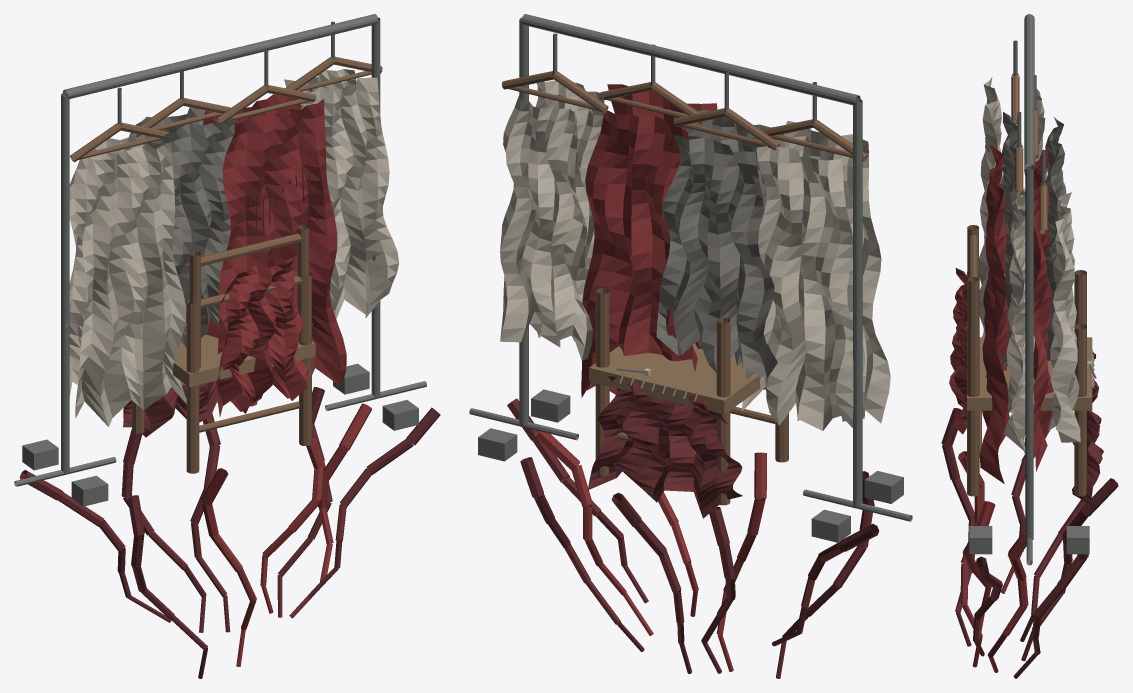
File: conservatory-adversary-scenery.glb
3 views of the same model, side by side, from view 1: azimuth 30°, elevation 25°; view 2: azimuth 150°, elevation 25°; view 3: azimuth 270°, elevation 25° (orthographic). The views are drawn at different scales.
Visible parts, largest first — view 1: costume_rail, costume_stained_chair, held_note_ceiling_wound; view 2: costume_rail, costume_stained_chair, held_note_ceiling_wound; view 3: costume_rail, costume_stained_chair, held_note_ceiling_wound.
Part boxes in pixels (left/top/right/bottom): costume_rail: left=14, top=14, right=426, bottom=506; costume_stained_chair: left=123, top=224, right=315, bottom=473; held_note_ceiling_wound: left=19, top=387, right=440, bottom=678; costume_rail: left=469, top=14, right=912, bottom=542; costume_stained_chair: left=588, top=288, right=788, bottom=518; held_note_ceiling_wound: left=507, top=398, right=879, bottom=678; costume_rail: left=969, top=14, right=1089, bottom=565; costume_stained_chair: left=949, top=225, right=1103, bottom=507; held_note_ceiling_wound: left=941, top=408, right=1118, bottom=678.
Bounding box in the file's own units: 1.82 × 2.51 × 0.6925.
